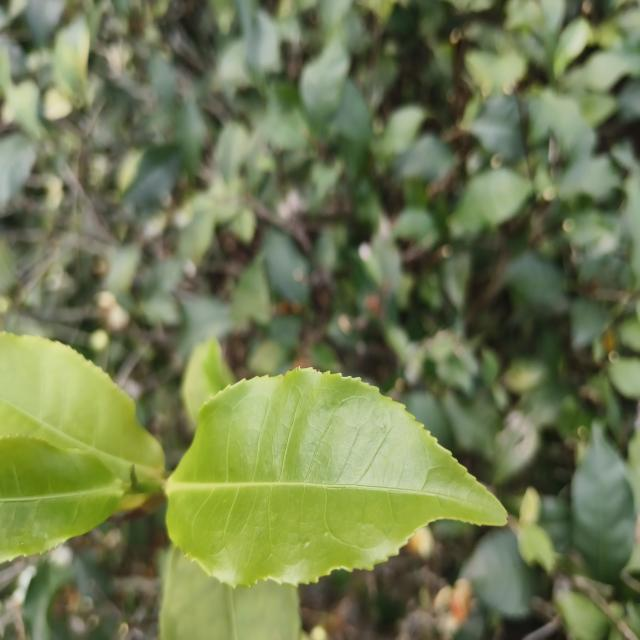Leaf: (167, 369, 506, 587), (0, 332, 164, 486), (0, 436, 126, 562), (160, 547, 301, 640), (571, 426, 636, 584), (461, 529, 535, 618), (450, 168, 531, 236), (300, 40, 349, 122), (123, 144, 181, 209), (468, 96, 523, 160), (0, 133, 37, 207), (176, 93, 207, 176), (553, 17, 591, 78), (381, 105, 426, 155), (570, 299, 608, 349)
